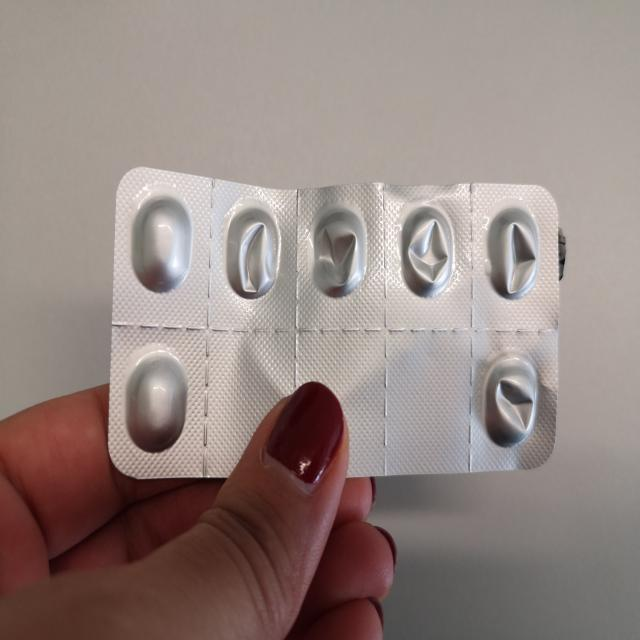Empty: (392, 198, 461, 307), (301, 197, 369, 302), (222, 196, 285, 308), (478, 348, 543, 454), (485, 194, 542, 306)
Pill: (122, 344, 192, 456), (130, 186, 193, 298)
